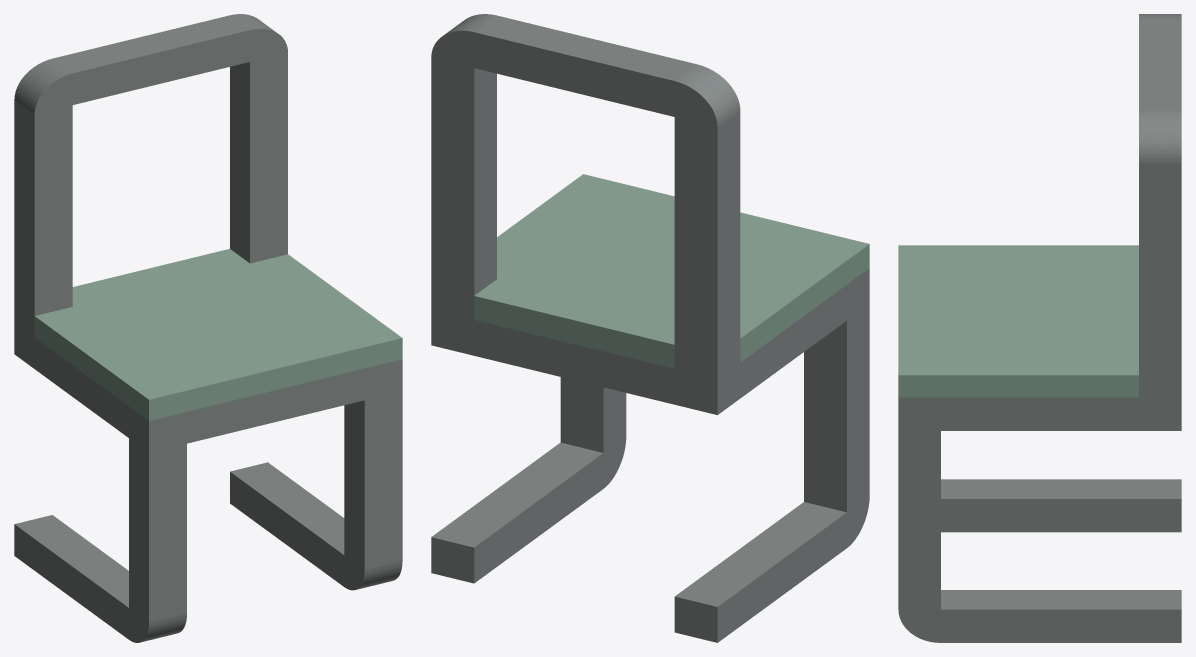
The model's file is chair_waiting.glb.
3 renders of one model, left to right at view 1: azimuth 30°, elevation 25°; view 2: azimuth 150°, elevation 25°; view 3: azimuth 270°, elevation 25°, orthographic. The views are drawn at different scales.
Parts seen in each view (by area): view 1: prop; view 2: prop; view 3: prop.
Part boxes in pixels (left/top/right/bottom): prop: left=14, top=14, right=402, bottom=642; prop: left=431, top=14, right=869, bottom=642; prop: left=898, top=14, right=1181, bottom=642.
Bounding box in the file's own units: 0.462 × 0.85 × 0.425.
